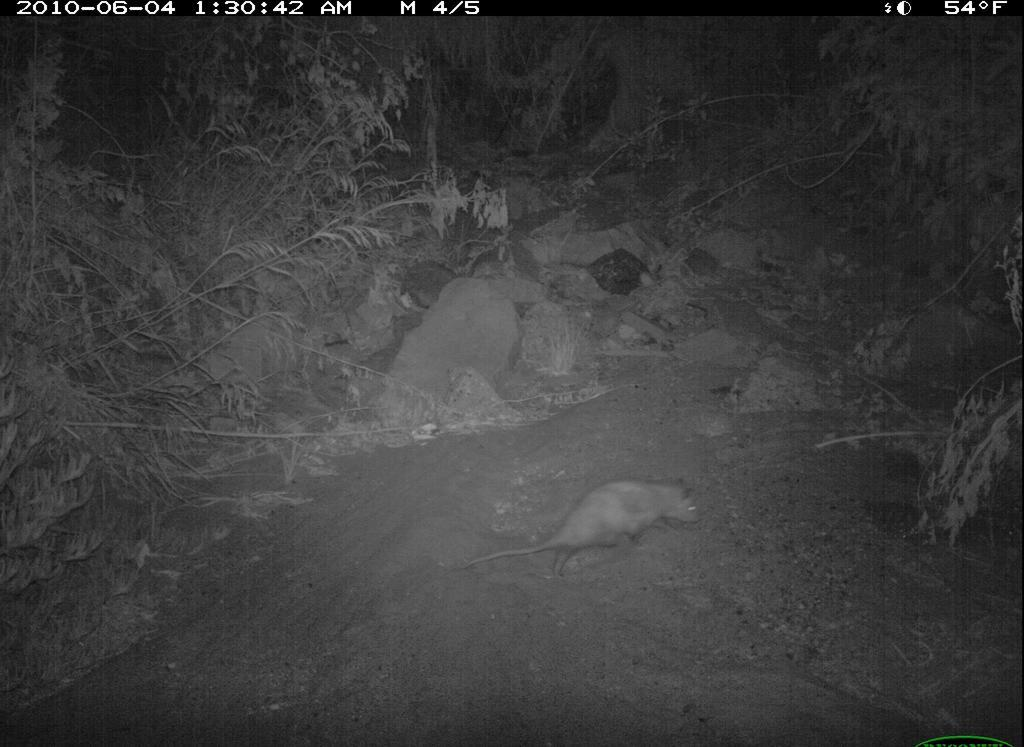opossum: (465, 455, 708, 596)
